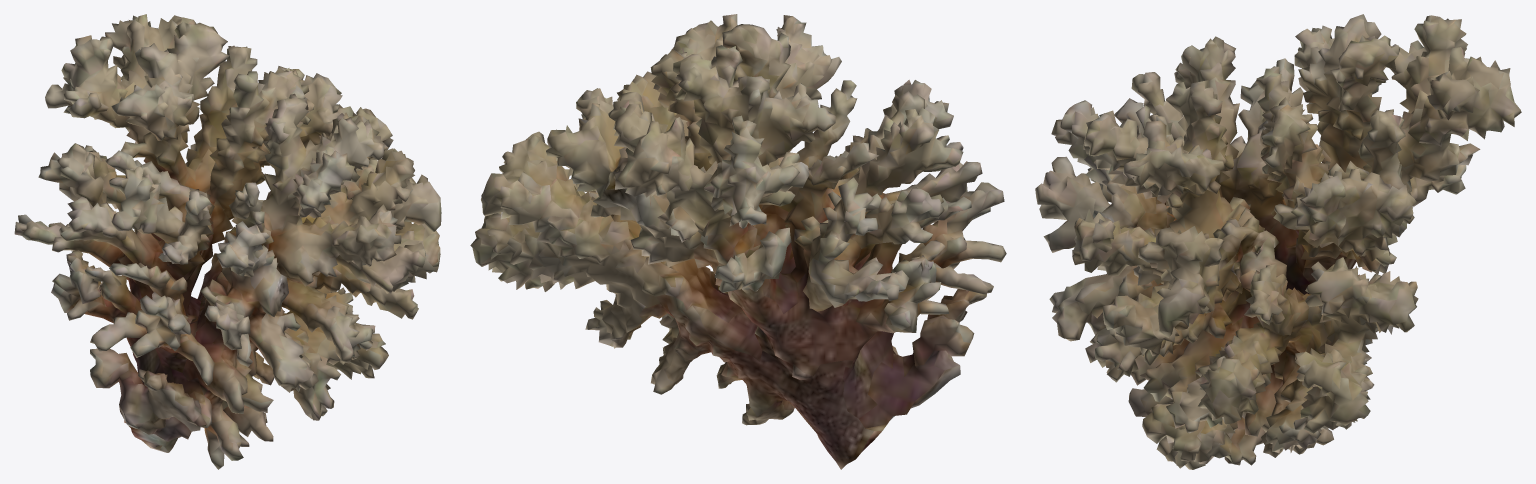
The model's file is pocillopora.glb.
3 renders of one model, left to right at view 1: azimuth 30°, elevation 25°; view 2: azimuth 150°, elevation 25°; view 3: azimuth 270°, elevation 25°, orthographic. The views are drawn at different scales.
Parts seen in each view (by area): view 1: mesh_0; view 2: mesh_0; view 3: mesh_0.
Part boxes in pixels (left/top/right/bottom): mesh_0: left=14, top=14, right=441, bottom=469; mesh_0: left=470, top=14, right=1006, bottom=469; mesh_0: left=1035, top=14, right=1521, bottom=469.
Bounding box in the file's own units: 0.138 × 0.1277 × 0.129.
1 material, 1 textured.
